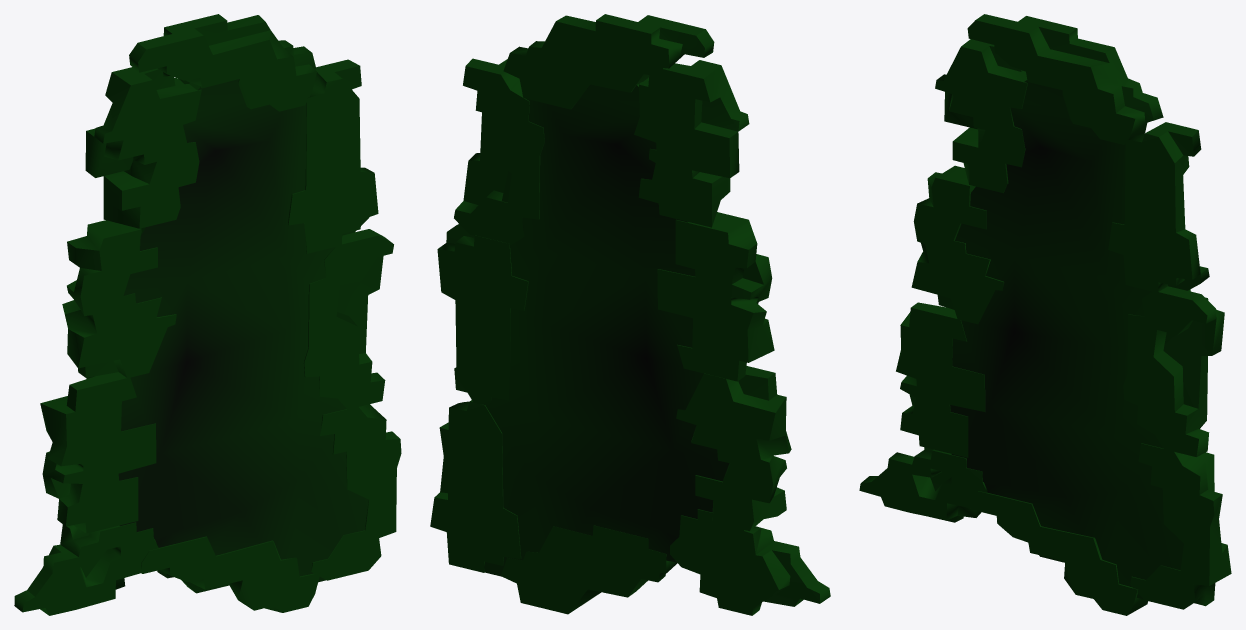
Rendered from DBK_Brick_Prop_Big_F.fbx.
The picture shows the model from 3 angles, left to right: view 1: azimuth 30°, elevation 25°; view 2: azimuth 150°, elevation 25°; view 3: azimuth 330°, elevation 25°; orthographic projection. The views are drawn at different scales.
Visible parts, largest first — view 1: DBK_Brick_Prop_Big_F; view 2: DBK_Brick_Prop_Big_F; view 3: DBK_Brick_Prop_Big_F.
Part boxes in pixels (x1=…): DBK_Brick_Prop_Big_F: x1=14, y1=14, x2=401, y2=615; DBK_Brick_Prop_Big_F: x1=430, y1=14, x2=830, y2=615; DBK_Brick_Prop_Big_F: x1=859, y1=14, x2=1231, y2=615.
Bounding box in the file's own units: 238 × 358 × 20.52.
